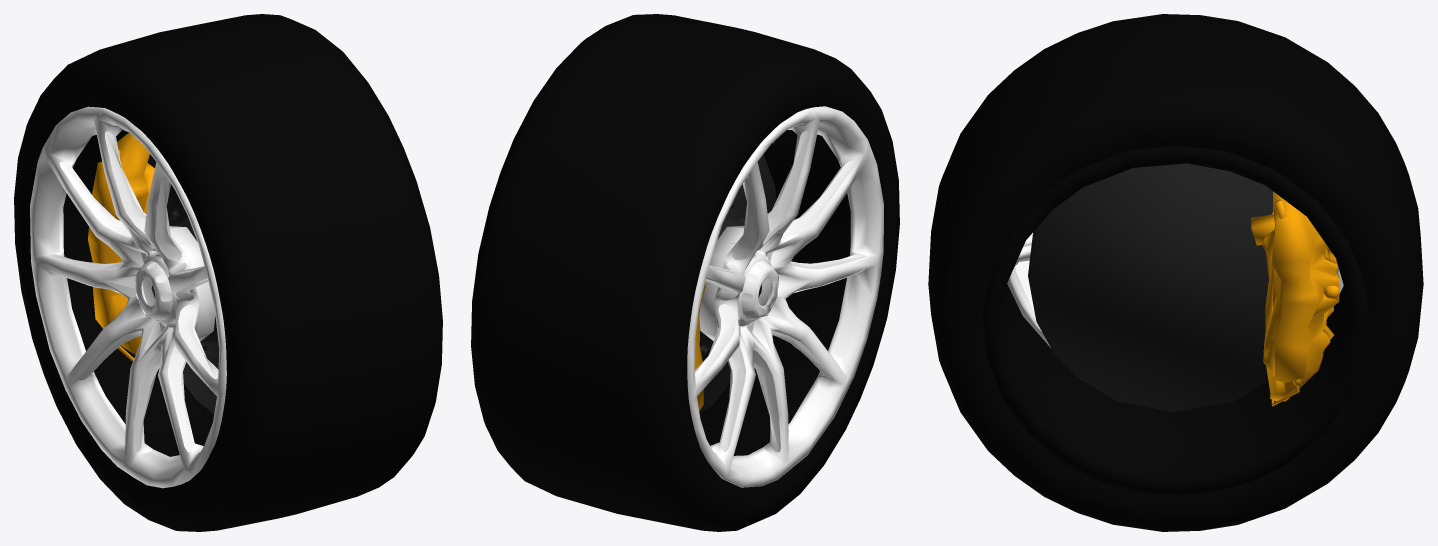
Rendered from mclaren_senna_wheelhigh.obj.
3 renders of one model, left to right at view 1: azimuth 30°, elevation 25°; view 2: azimuth 150°, elevation 25°; view 3: azimuth 270°, elevation 25°, orthographic.
Visible parts, largest first — view 1: mclaren_senna_wheelhigh_Torus.008; view 2: mclaren_senna_wheelhigh_Torus.008; view 3: mclaren_senna_wheelhigh_Torus.008.
Boxes of the visible parts, <box> form: mclaren_senna_wheelhigh_Torus.008: <box>14,14,442,531</box>; mclaren_senna_wheelhigh_Torus.008: <box>471,14,899,531</box>; mclaren_senna_wheelhigh_Torus.008: <box>928,14,1423,531</box>.
Bounding box in the file's own units: 0.3249 × 0.6828 × 0.6828.
